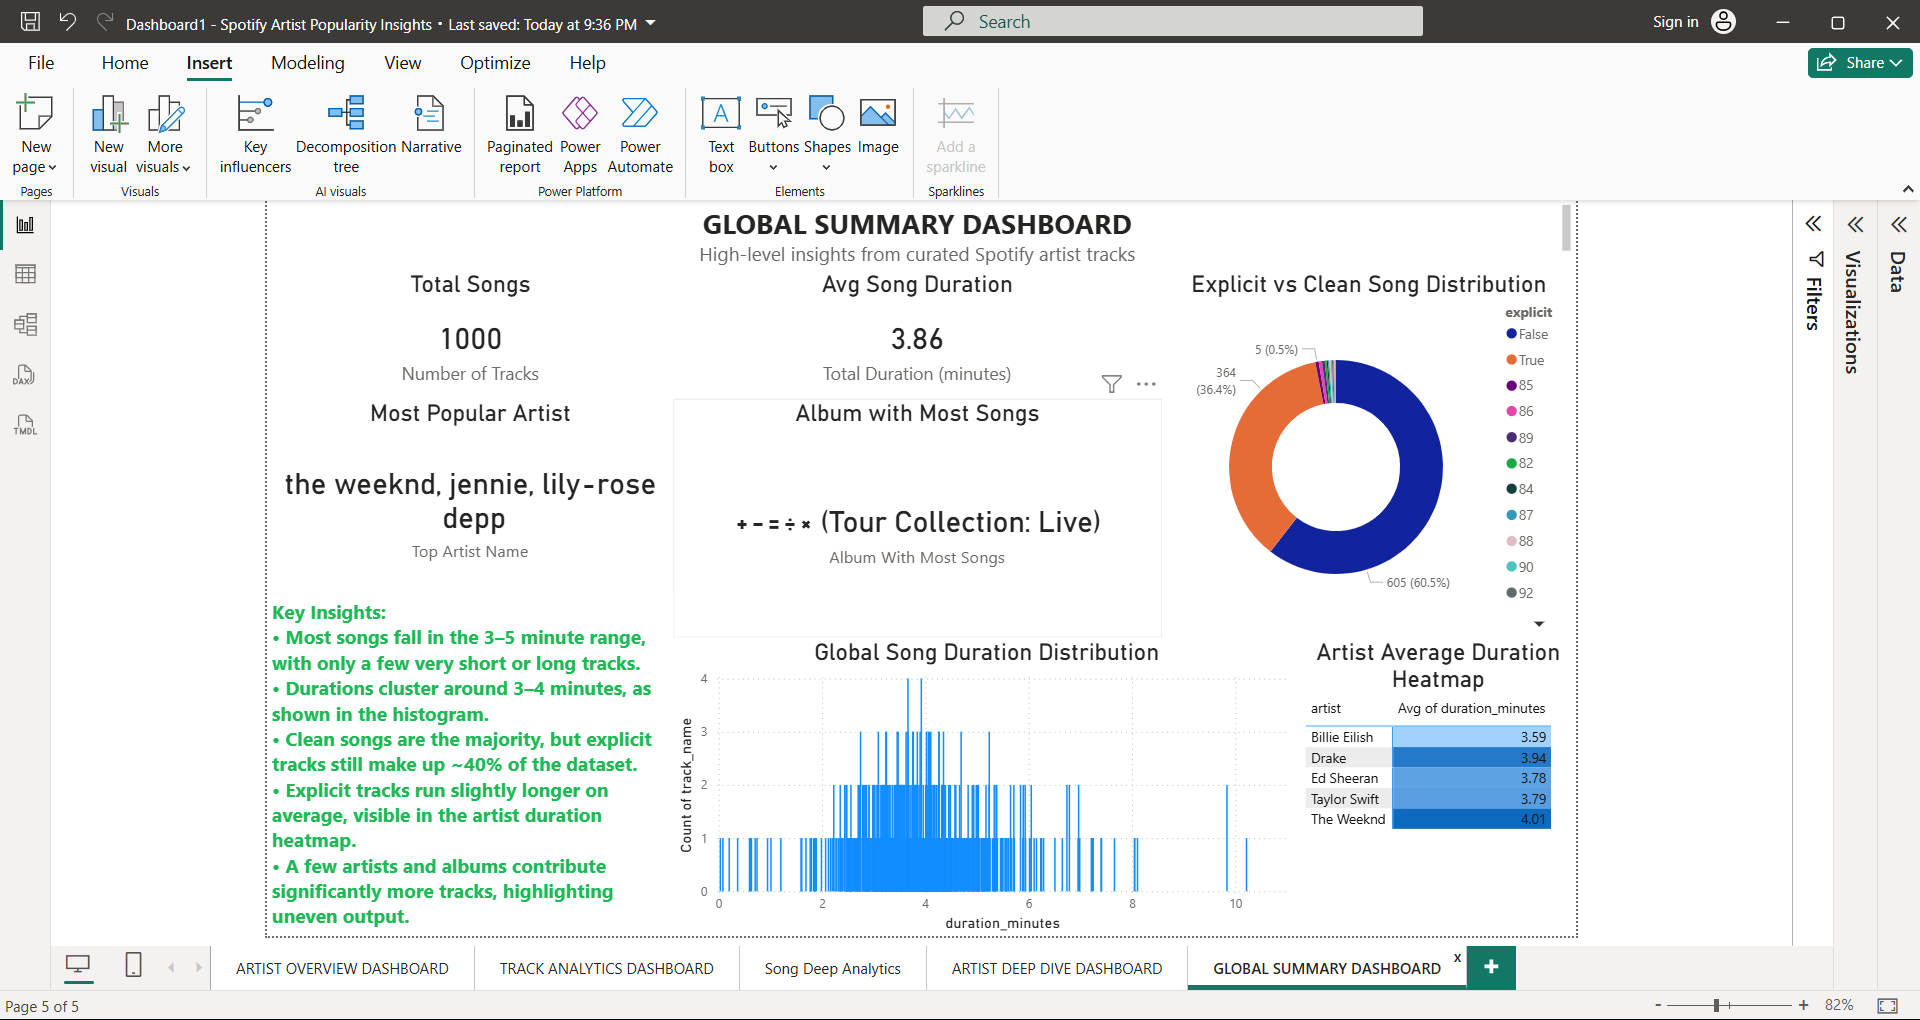

This screenshot's page, from the dashboard's own definition file:
{"tool":"powerbi","page":{"name":"GLOBAL SUMMARY DASHBOARD","canvas":[1280,720],"ordinal":4},"visuals":[{"type":"card","title":"Total Songs","fields":{"Values":["spotify_tracks_gold_sample.track_name"]},"box":[0,68.6,397.9,126.2],"z":0},{"type":"card","title":"Avg Song Duration","fields":{"Values":["spotify_tracks_gold_sample.duration_minutes"]},"box":[397.9,68.6,477.5,126.2],"z":1},{"type":"card","title":"Most Popular Artist","fields":{"Values":["spotify_popularity_summary.Top Artist Name"]},"box":[0,194.9,397.9,190.7],"z":3},{"type":"actionButton","box":[0,0,100,40],"z":4},{"type":"card","title":"Album with Most Songs","fields":{"Values":["spotify_popularity_summary.Album With Most Songs"]},"box":[397.9,194.9,477.5,233.3],"z":5},{"type":"donutChart","title":"Explicit vs Clean Song Distribution","fields":{"Y":["spotify_tracks_gold_sample.track_name"],"Category":["spotify_tracks_gold_sample.explicit"]},"box":[875.5,68.6,404.8,359.5],"z":6},{"type":"clusteredColumnChart","title":"Global Song Duration Distribution","fields":{"Category":["spotify_tracks_gold_sample.duration_minutes"],"Y":["spotify_tracks_gold_sample.track_name"]},"box":[397.9,428.1,613.4,292.3],"z":7},{"type":"pivotTable","title":"Artist Average Duration Heatmap","fields":{"Rows":["spotify_tracks_gold_sample.artist"],"Values":["spotify_tracks_gold_sample.duration_minutes"]},"box":[1011.3,428.1,269,292.3],"z":8},{"type":"textbox","box":[0,385.6,397.9,334.8],"z":9},{"type":"textbox","box":[0,0,1280.3,68.6],"z":10}]}

Visuals, with their boxes on the page's 1280x720 design canvas (x1, y1, x2, y2). These are canvas units, not pixel positions in the 1920x1020 screenshot, which may show the page scaled, cropped or inside an application window:
"Total Songs" card: left=0, top=69, right=398, bottom=195
"Avg Song Duration" card: left=398, top=69, right=875, bottom=195
"Most Popular Artist" card: left=0, top=195, right=398, bottom=386
actionButton: left=0, top=0, right=100, bottom=40
"Album with Most Songs" card: left=398, top=195, right=875, bottom=428
"Explicit vs Clean Song Distribution" donutChart: left=876, top=69, right=1280, bottom=428
"Global Song Duration Distribution" clusteredColumnChart: left=398, top=428, right=1011, bottom=720
"Artist Average Duration Heatmap" pivotTable: left=1011, top=428, right=1280, bottom=720
textbox: left=0, top=386, right=398, bottom=720
textbox: left=0, top=0, right=1280, bottom=69
